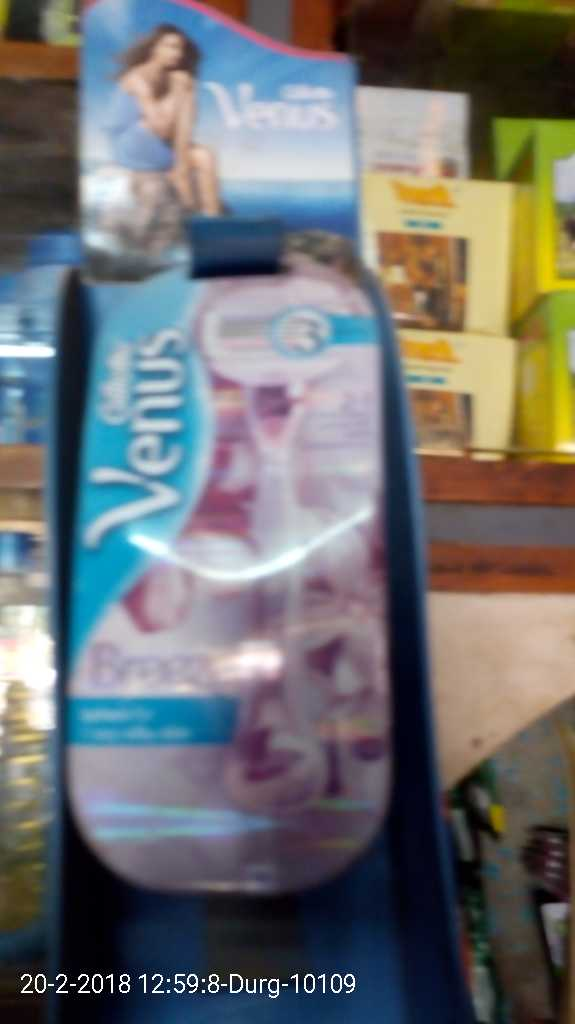venus: (72, 236, 383, 899)
